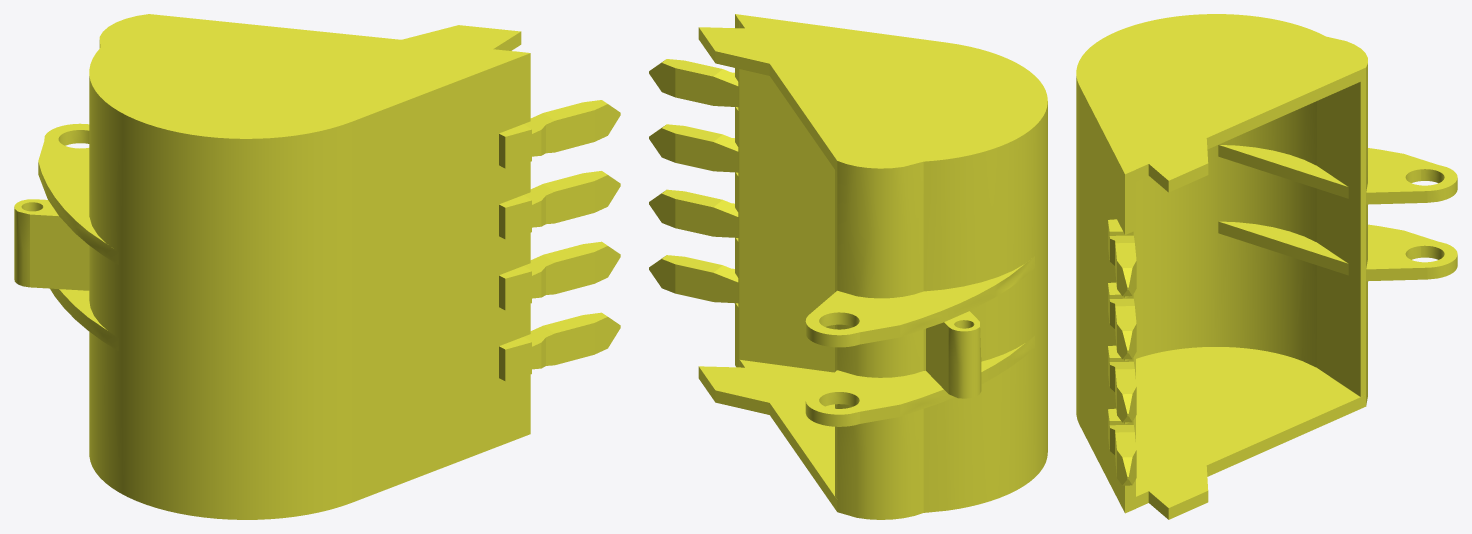
File: bucket.glb
The picture shows the model from 3 angles, left to right: view 1: azimuth 30°, elevation 25°; view 2: azimuth 150°, elevation 25°; view 3: azimuth 270°, elevation 25°; orthographic projection. The views are drawn at different scales.
Parts seen in each view (by area): view 1: material_0; view 2: material_0; view 3: material_0.
Part boxes in pixels (x1,y1,x2,y2): material_0: (14,14,620,519); material_0: (649,14,1047,519); material_0: (1076,14,1457,519).
Bounding box in the file's own units: 0.7586 × 0.575 × 0.5859.
